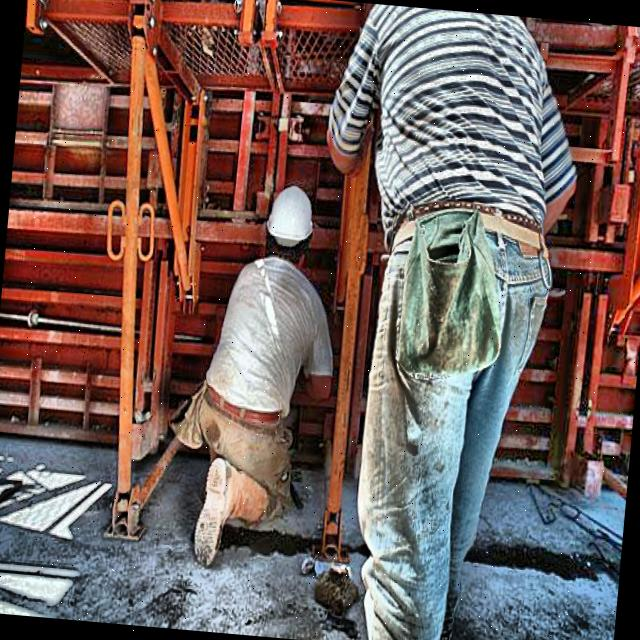helmet: (261, 179, 319, 275)
